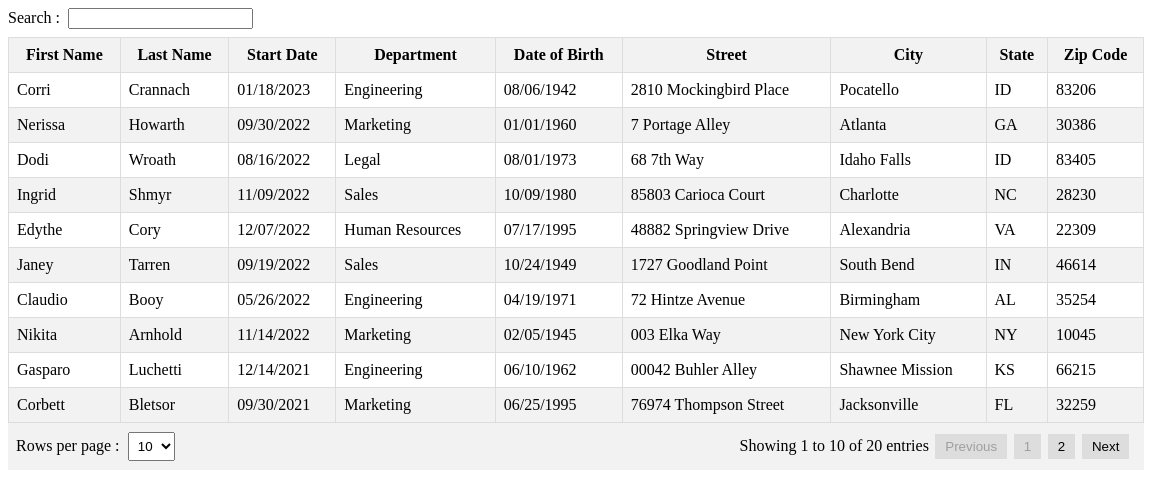
Test case: Table integration › should paginate the data correctly
Expected: the element with test id "pagination" that starts with "Rows per page :" is shown, [8,423,1144,470]
// Check if the pagination is working correctly
Click the button "Next" at point(1106, 446), box [1082,434,1129,459]
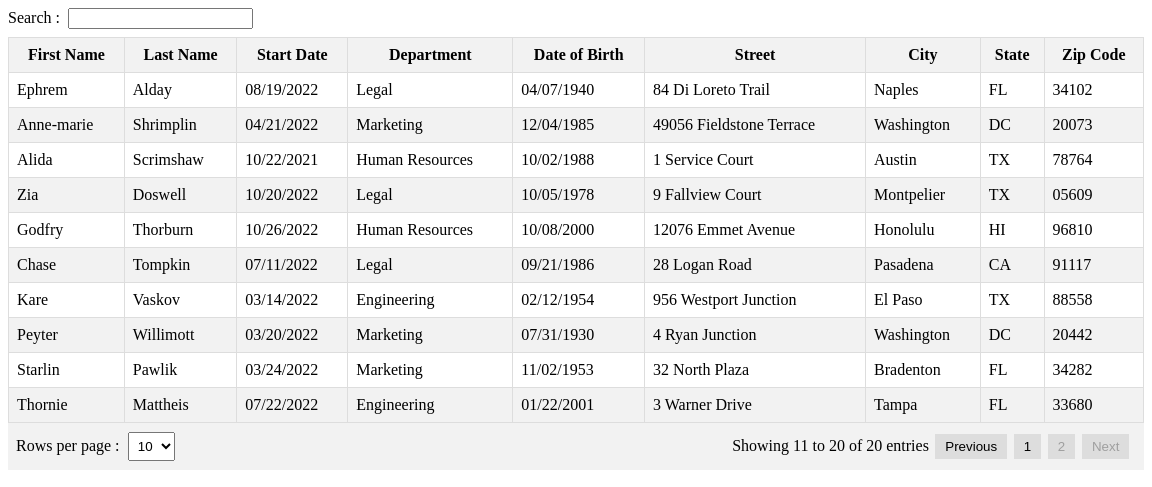
Now the button "Next" is disabled, box [1082,434,1129,459]
Now the button "Previous" is enabled
Click the button "Previous" at point(971, 446), box [935,434,1007,459]
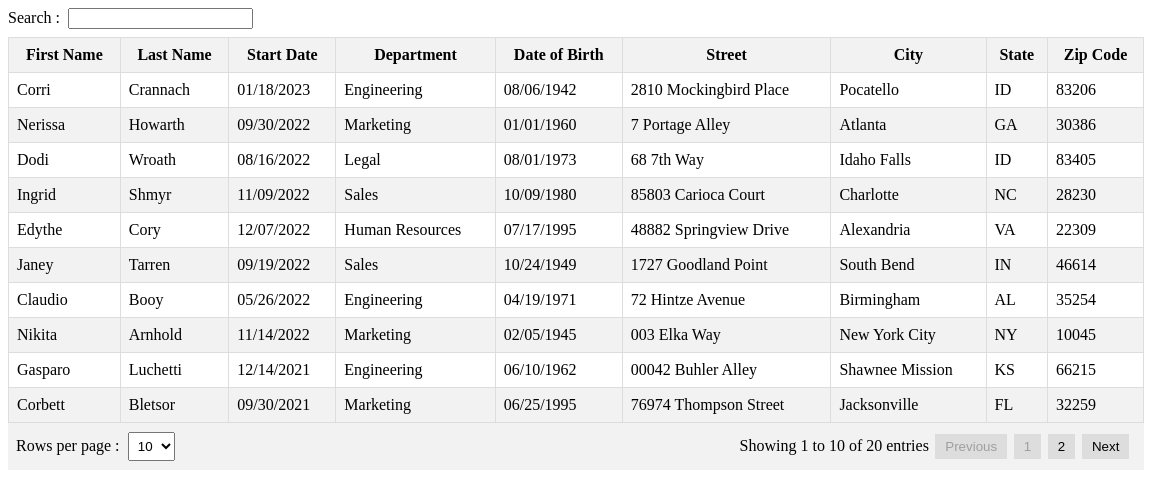
Now the button "Next" is enabled, box [1082,434,1129,459]
Now the button "Previous" is disabled, box [935,434,1007,459]
